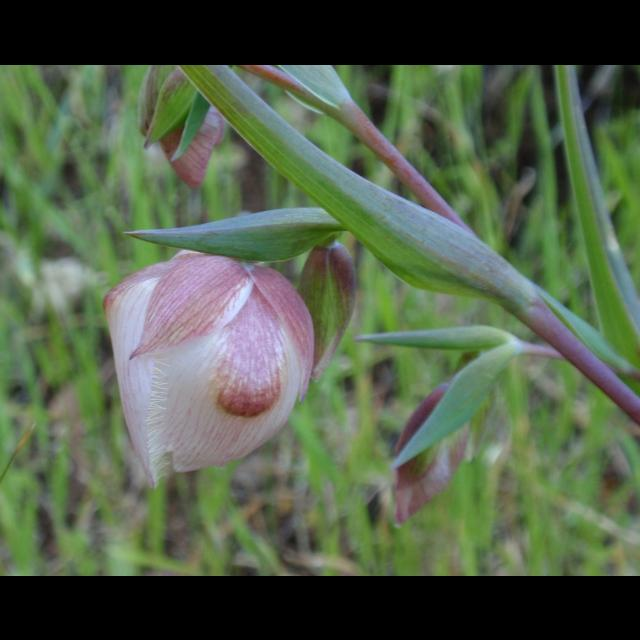Flower: (94, 233, 336, 482)
